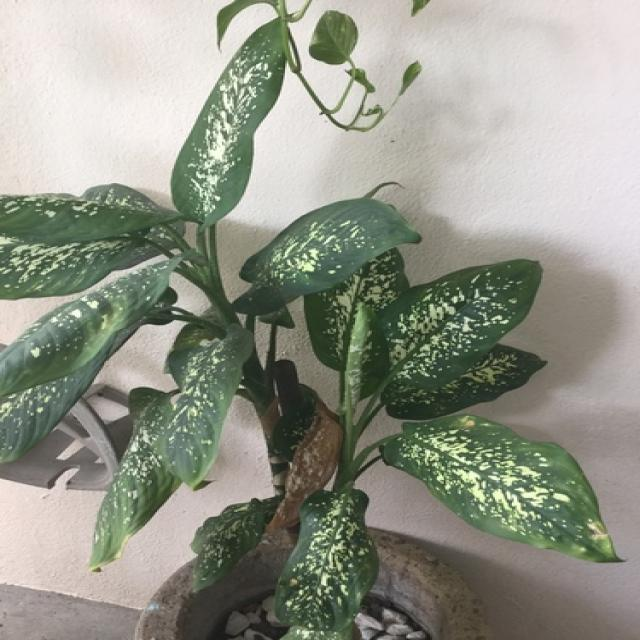dieffenbachia-oVHx: (0, 16, 629, 640)
